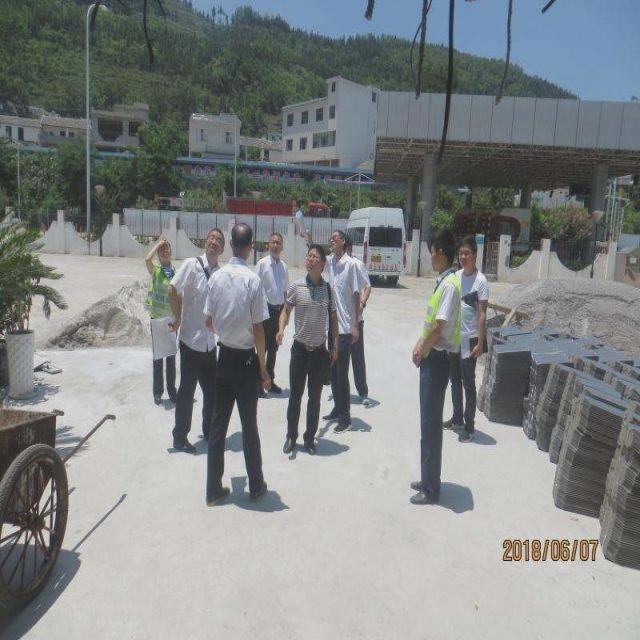Con_Chaleco: (419, 269, 464, 356)
Sin_Chaleco: (206, 259, 266, 357), (290, 276, 337, 354)
